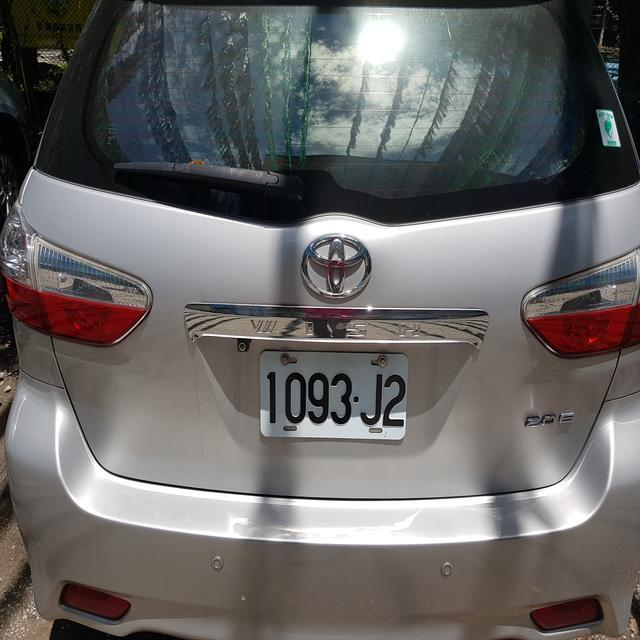license: (257, 352, 407, 437)
